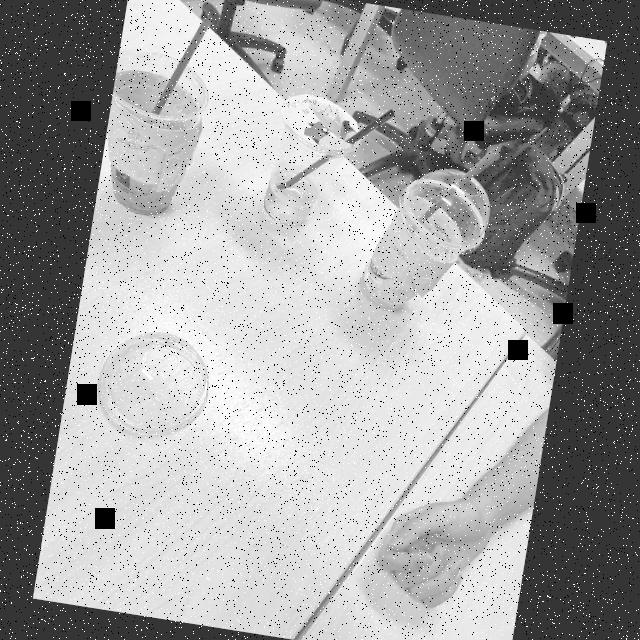plastic_cup: (350, 167, 495, 343), (95, 43, 215, 225), (254, 87, 365, 235)
plastic_cup_lid: (81, 316, 228, 448), (396, 156, 502, 260)
straw: (276, 107, 397, 189), (408, 144, 503, 235), (144, 16, 213, 123)
